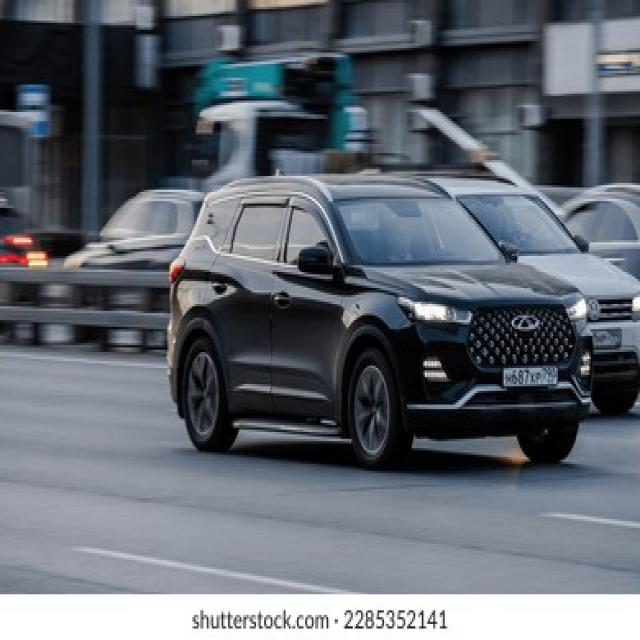cherry: (506, 312, 548, 334)
